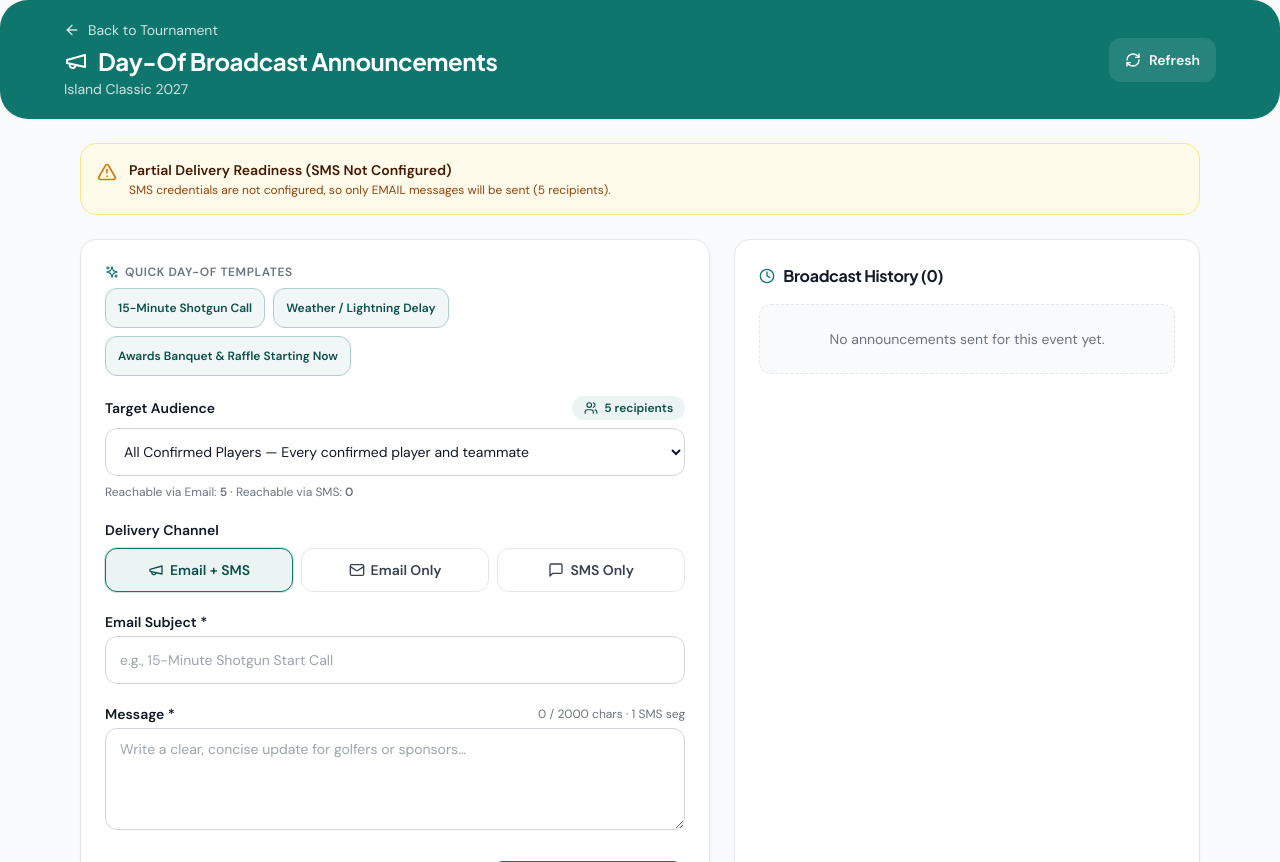
BroadcastsPage › clears stale preview and disables submit while a channel preview request fails or is pending
expect the element with test id "broadcast-partial-channel-banner" is shown: met, box 80,143 -> 1200,215
Click the radio button labelled "Email Only": (395,570) 301,548 -> 489,592
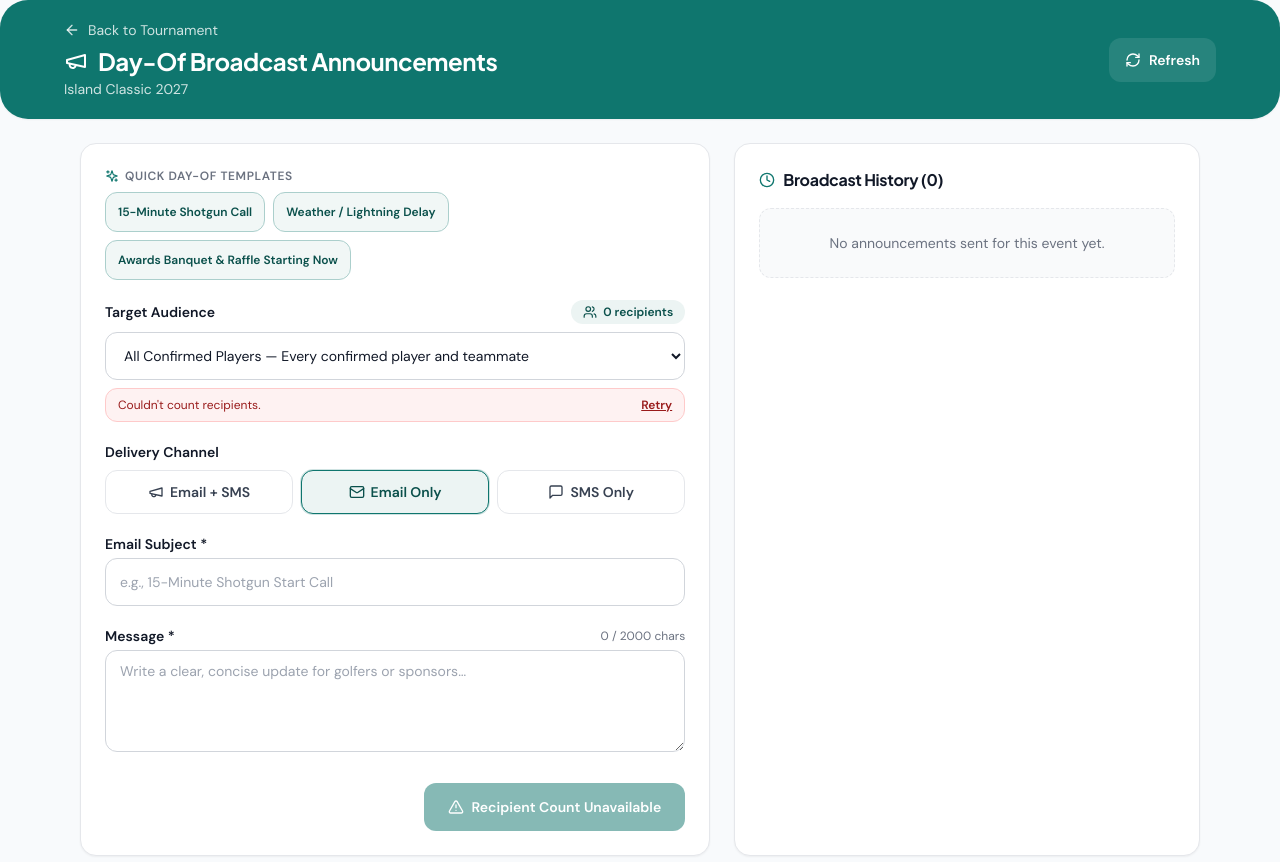
expect the button with test id "broadcast-submit-btn" is disabled: met, box 424,783 -> 685,831
